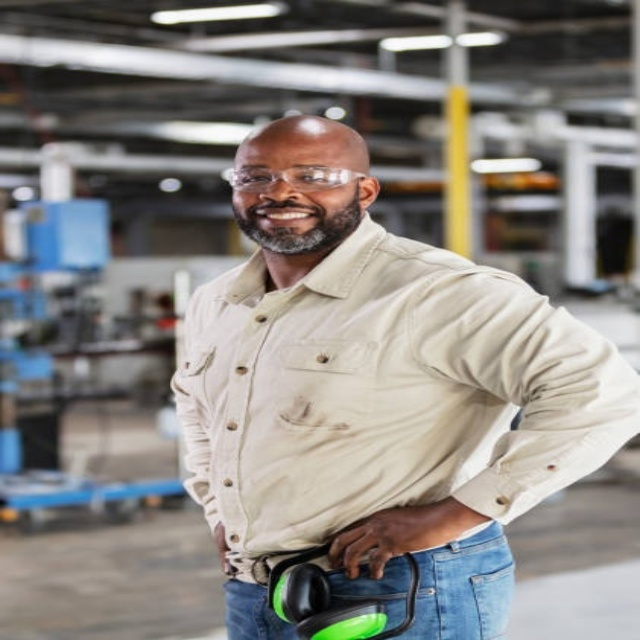Gafas: (223, 165, 366, 192)
Sin_guantes: (318, 499, 442, 580)
Sin_mascara: (246, 202, 325, 242)
